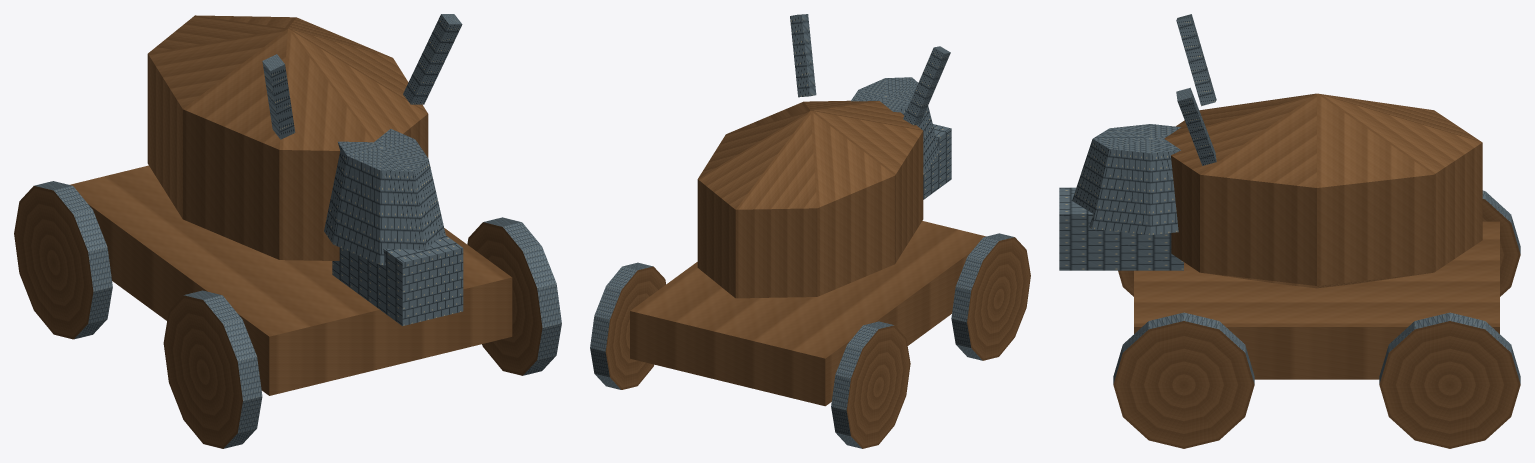
The model's file is unit-WOODEN_BEAST-lod0.glb.
3 views of the same model, side by side, from view 1: azimuth 30°, elevation 25°; view 2: azimuth 150°, elevation 25°; view 3: azimuth 270°, elevation 25° (orthographic). The views are drawn at different scales.
Bounding box in the file's own units: 0.394 × 0.435 × 0.555.
Materials: 1 (1 with a texture image).
